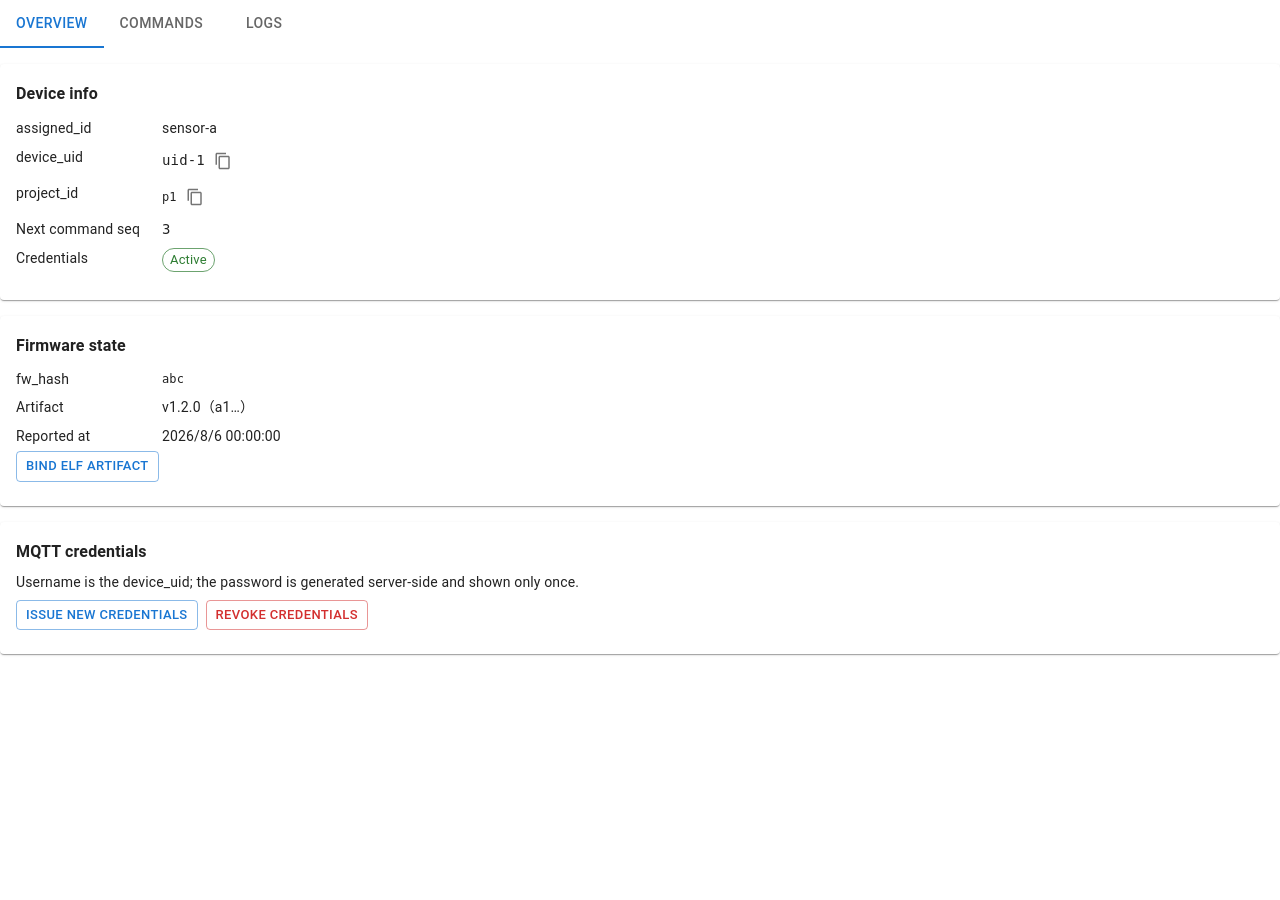
Test case: DeviceDetailPage › revoke errors are shown in the dialog
Expected: the text "sensor-a" is shown, [162,118,217,139]
Click the button "Revoke credentials". click: (287, 615)
box: [206,600,368,630]
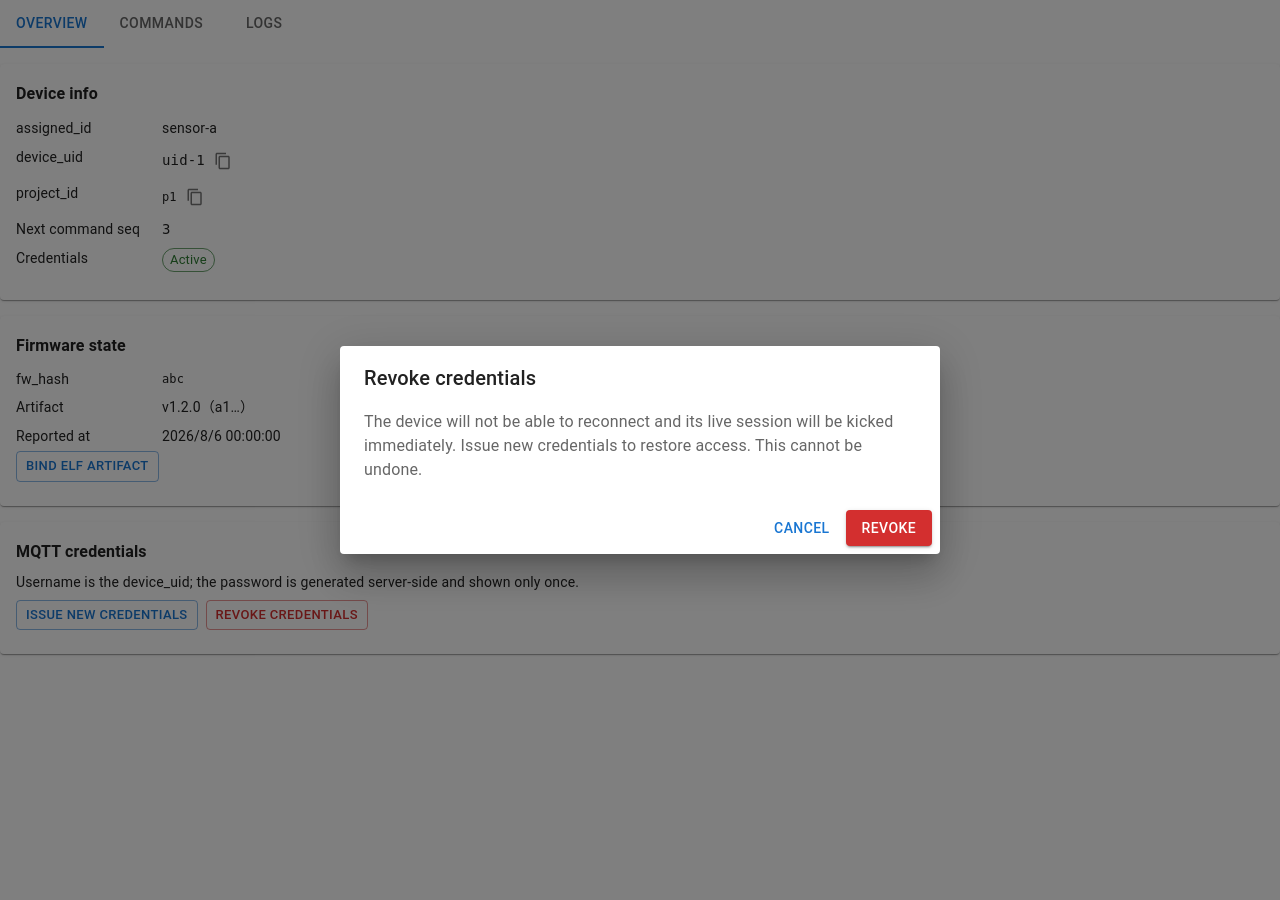
Click the button "Revoke". click: (889, 528)
box: [846,510,932,546]
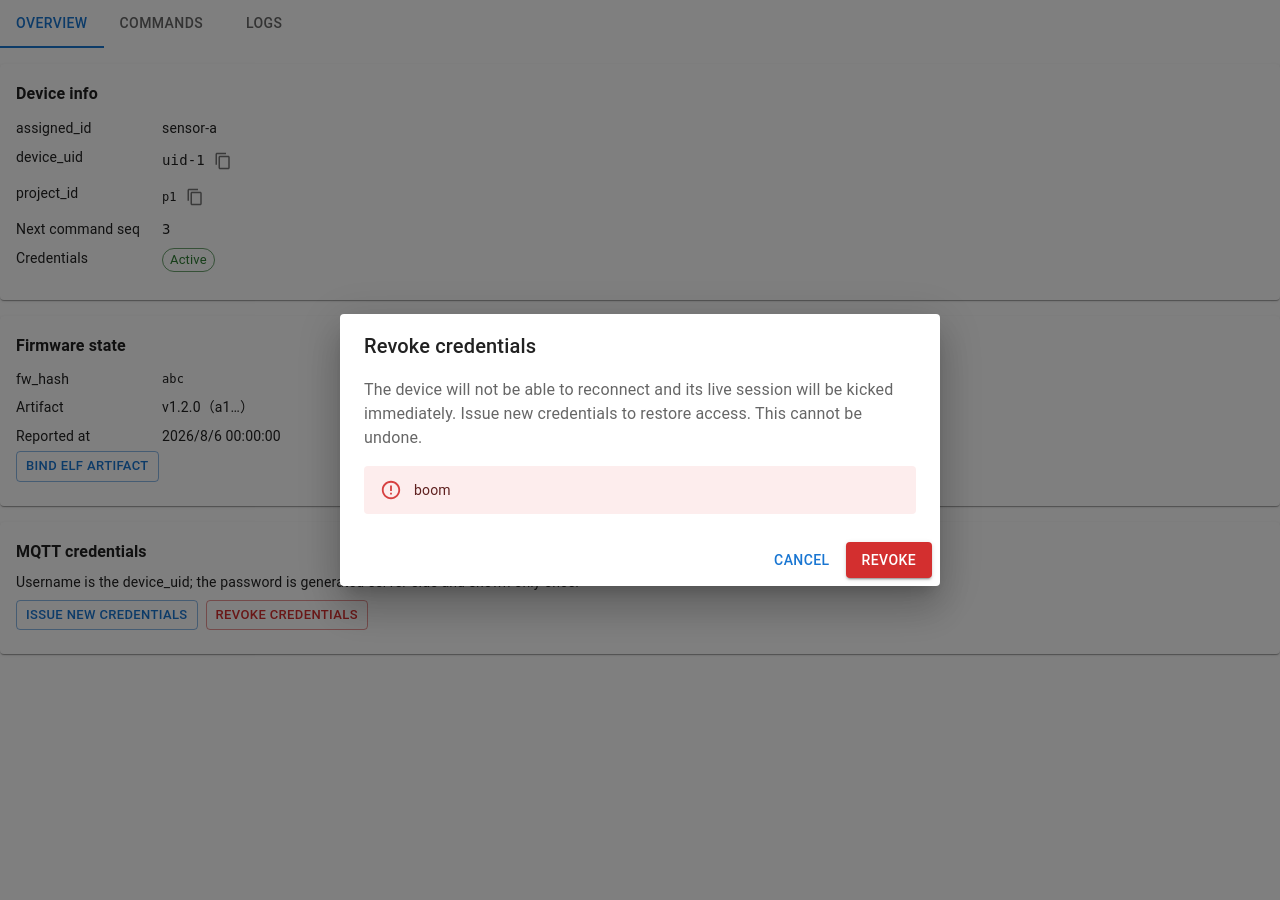
Expected: the text "boom" is shown, [414,482,451,498]
